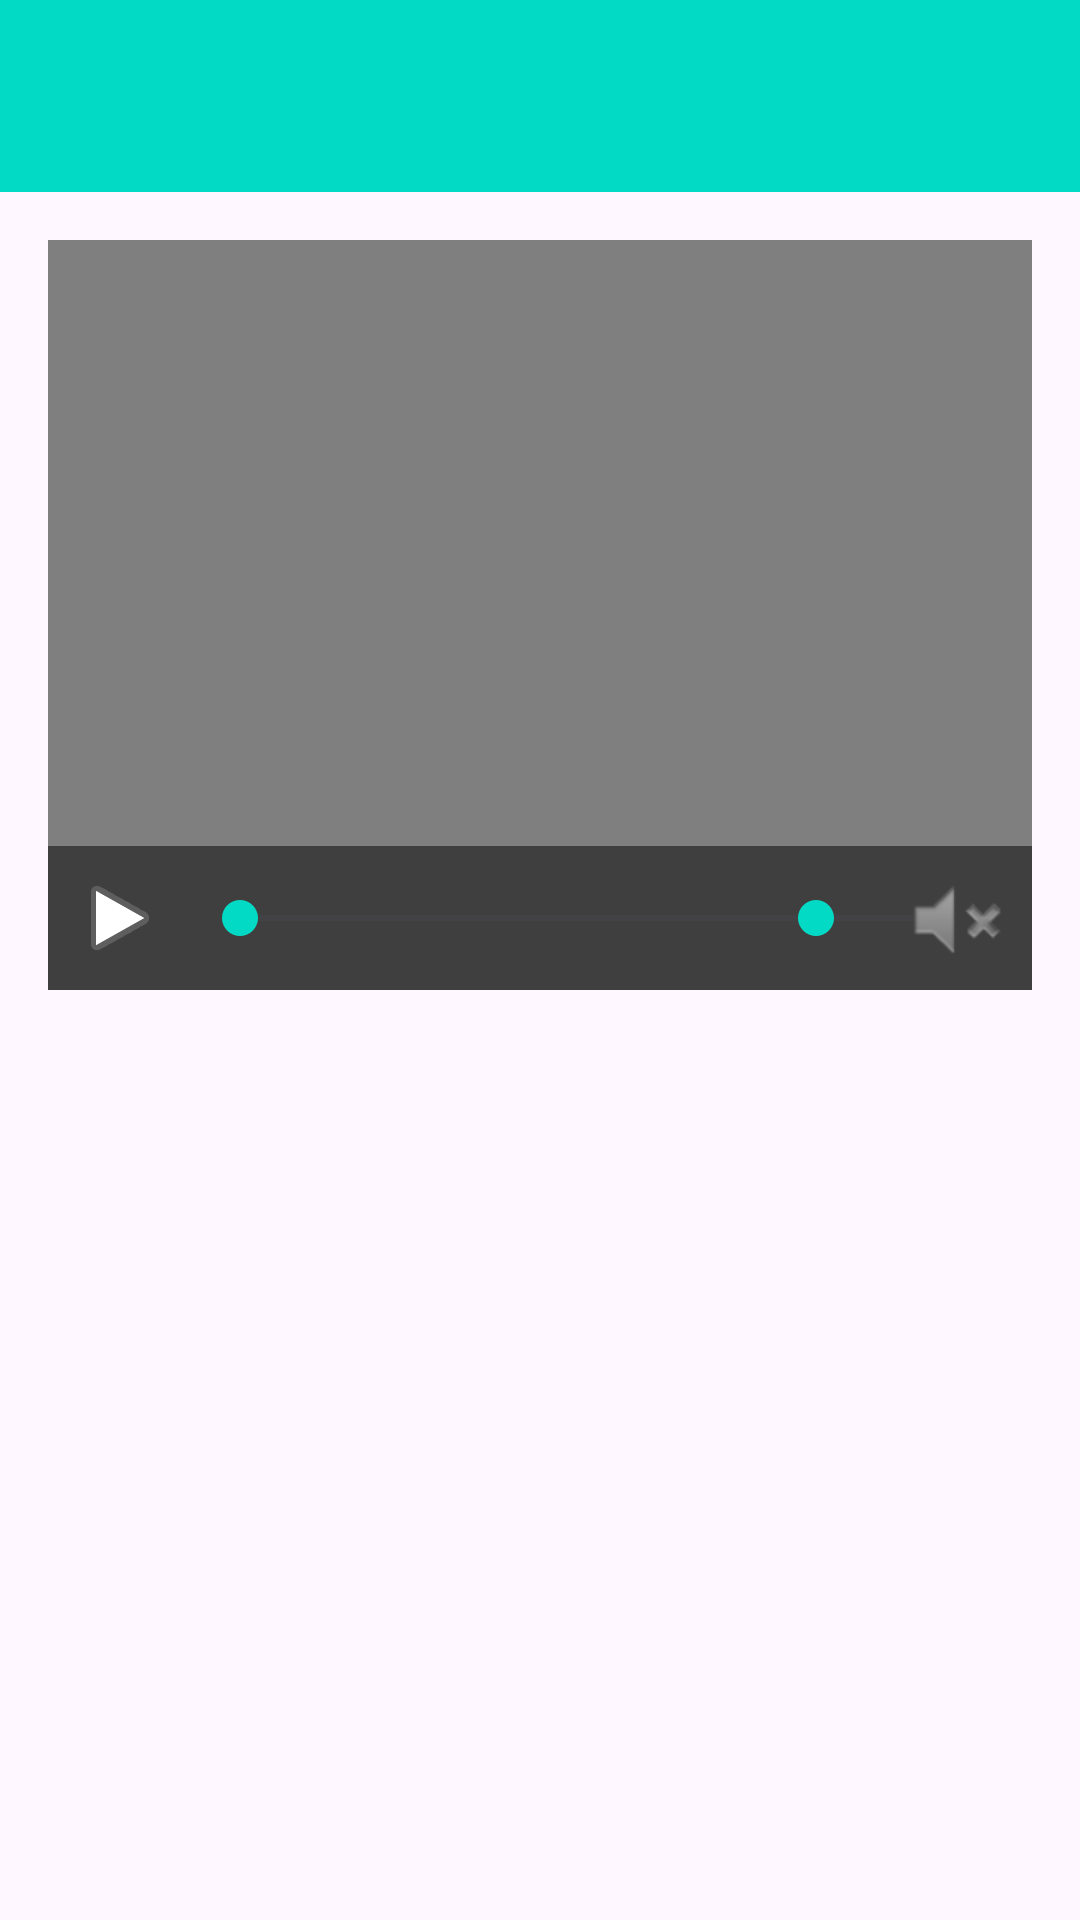

Icons on this 1080*1920 Android screen, each with the point to tap as (x,y):
lock silent mode: (957,920)
play: (120,918)
